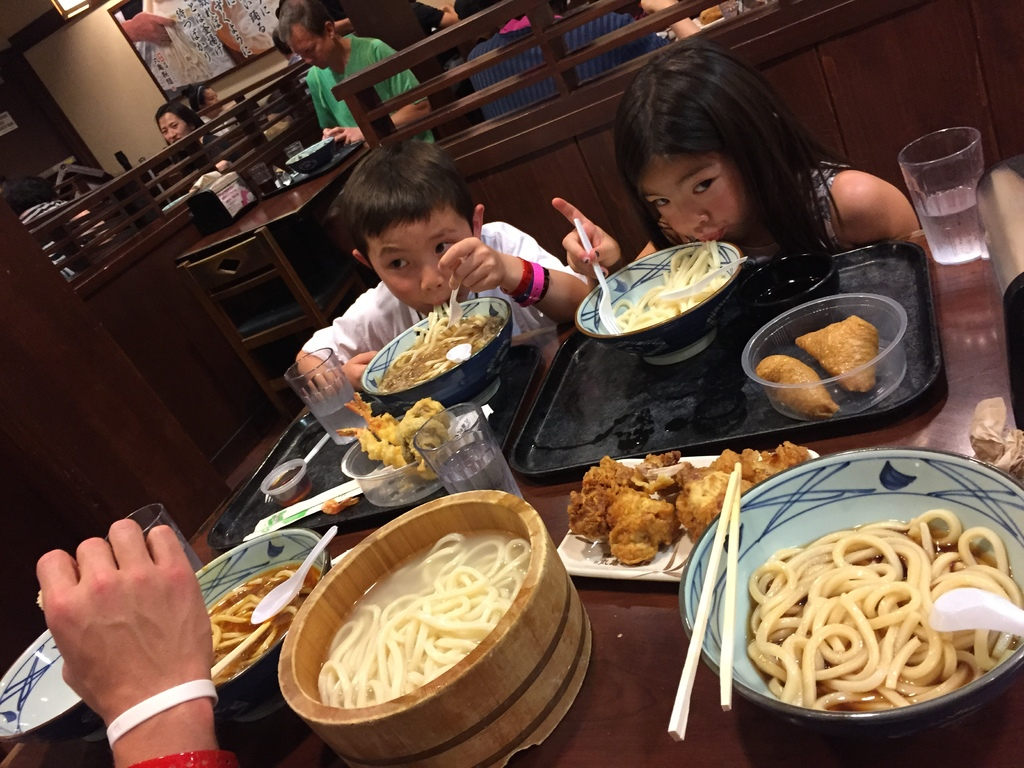pasta: (749, 504, 1022, 708), (319, 534, 530, 707), (381, 307, 504, 392), (613, 240, 722, 332)
